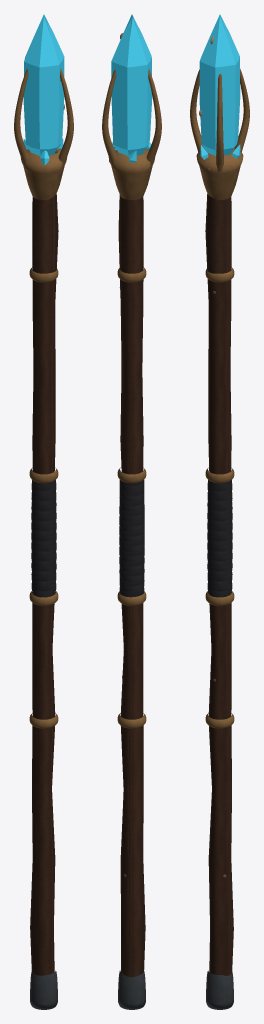
File: crystal-staff.glb
The picture shows the model from 3 angles, left to right: view 1: azimuth 90°, elevation 25°; view 2: azimuth 210°, elevation 25°; view 3: azimuth 270°, elevation 25°; orthographic projection.
Visible parts, largest first — view 1: wood / oiled hardwood, crystal / faceted crystal, bronze / cast bronze with patina, cord / waxed silk cord wrap, darksteel / oil-blackened fittings; view 2: wood / oiled hardwood, crystal / faceted crystal, bronze / cast bronze with patina, cord / waxed silk cord wrap, darksteel / oil-blackened fittings; view 3: wood / oiled hardwood, crystal / faceted crystal, bronze / cast bronze with patina, cord / waxed silk cord wrap, darksteel / oil-blackened fittings.
Boxes of the visible parts, x1,y1,x2,y2 form: wood / oiled hardwood: (30,194,58,975); crystal / faceted crystal: (23,14,64,165); bronze / cast bronze with patina: (14,69,73,728); cord / waxed silk cord wrap: (31,480,56,597); darksteel / oil-blackened fittings: (30,970,57,1009); wood / oiled hardwood: (118,194,145,977); crystal / faceted crystal: (111,14,152,162); bronze / cast bronze with patina: (102,69,161,728); cord / waxed silk cord wrap: (119,479,144,597); darksteel / oil-blackened fittings: (118,970,145,1009); wood / oiled hardwood: (205,194,233,975); crystal / faceted crystal: (199,14,240,159); bronze / cast bronze with patina: (190,68,249,728); cord / waxed silk cord wrap: (207,480,232,597); darksteel / oil-blackened fittings: (206,970,233,1009).
Bounding box in the file's own units: 0.0935 × 1.78 × 0.0975.
8 materials, 4 textured.
